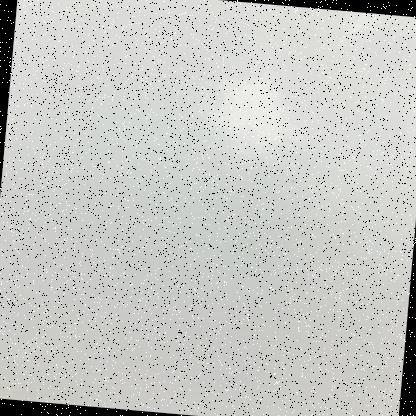Nocrack: (0, 21, 402, 412)
